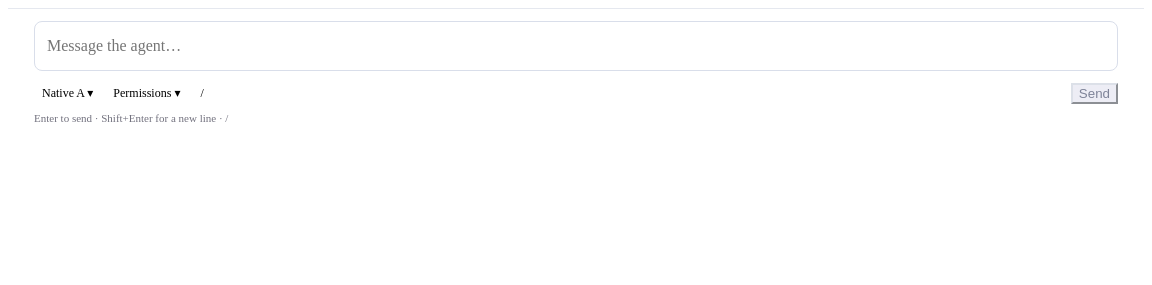
Scenario: composer provider controls › opens local slash settings and rejects unknown slash commands
Type "/model" into the text box at (576,46), box [34,21,1118,71]
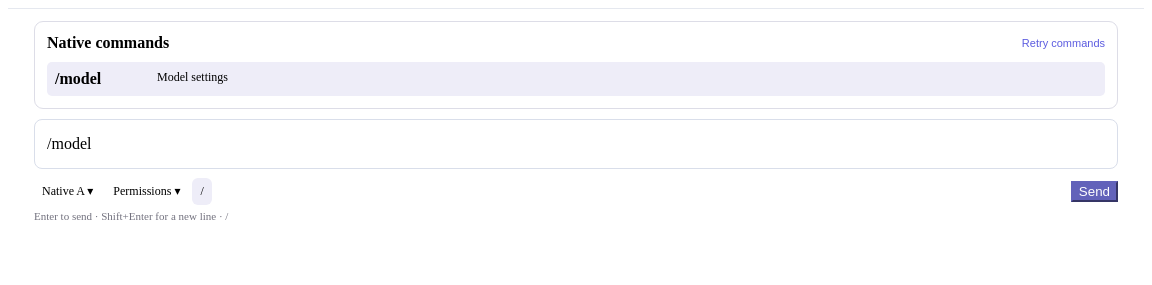
Press Enter in the text box, box [34,119,1118,169]
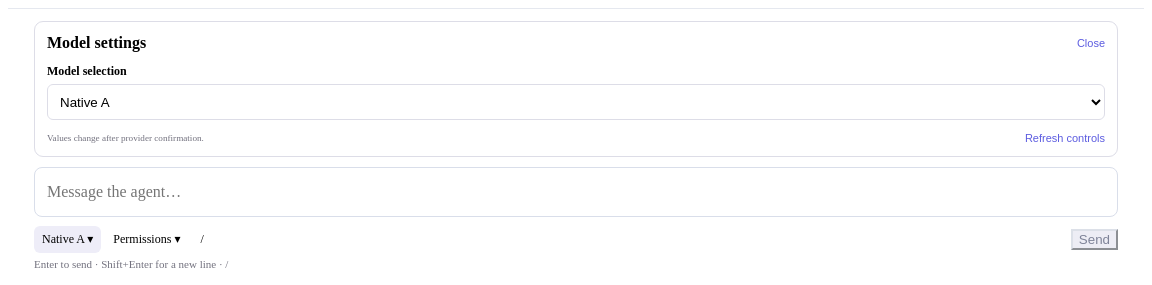
Expected: the dropdown labelled "Model selection" is shown, [47,84,1105,120]
Press Escape in the text box, box [34,167,1118,217]
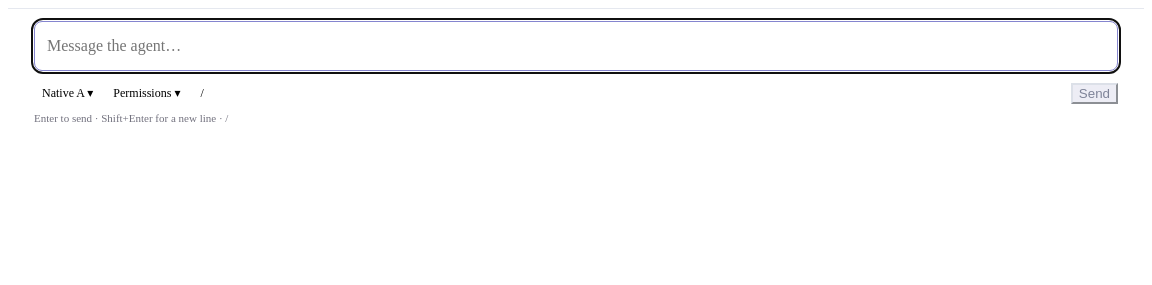
Type "/made-up" into the text box at (576,46), box [34,21,1118,71]
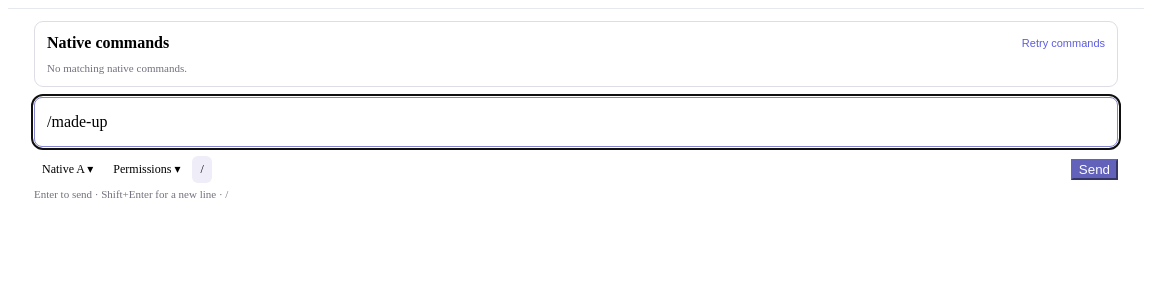
Press Enter in the text box, box [34,97,1118,147]
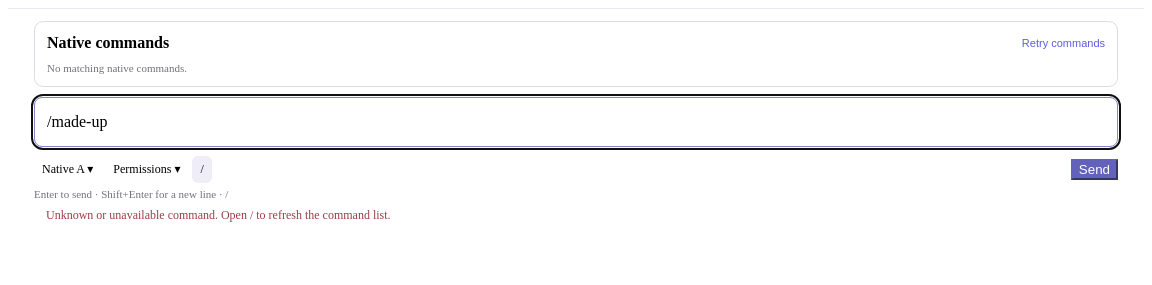
Expected: the text "Unknown or unavailable command. Open / to refresh the command list." is shown, [46,208,391,222]
